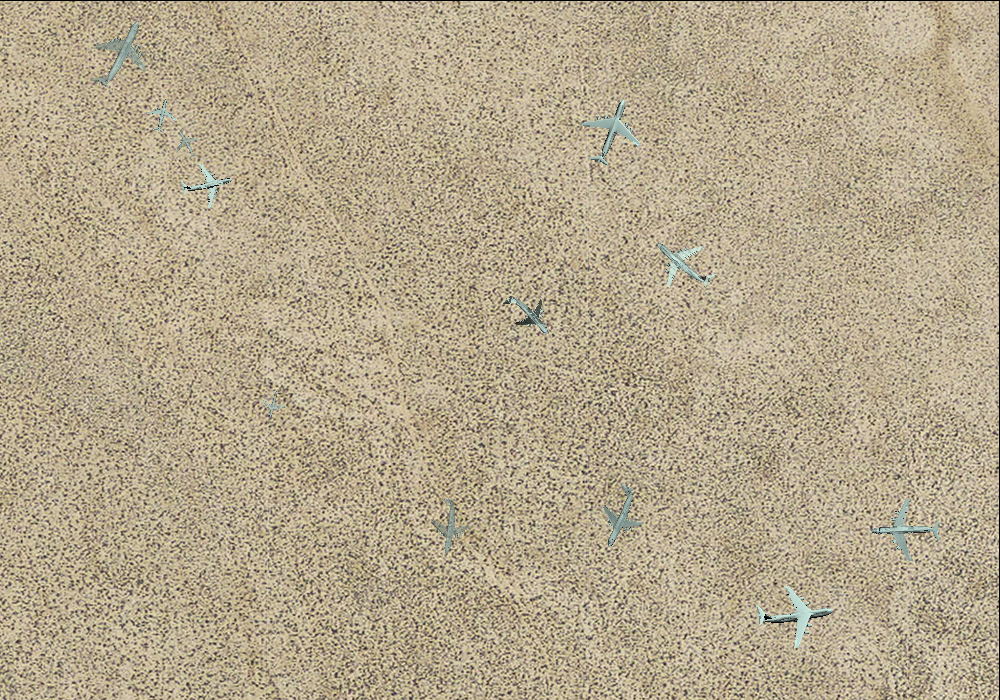plane: (72, 4, 165, 101), (639, 217, 729, 308), (568, 87, 654, 175), (751, 572, 838, 655), (580, 475, 657, 556), (492, 279, 563, 351), (870, 496, 942, 565), (418, 494, 477, 557), (175, 154, 237, 213), (166, 124, 205, 163), (142, 95, 180, 134), (256, 387, 289, 421)
